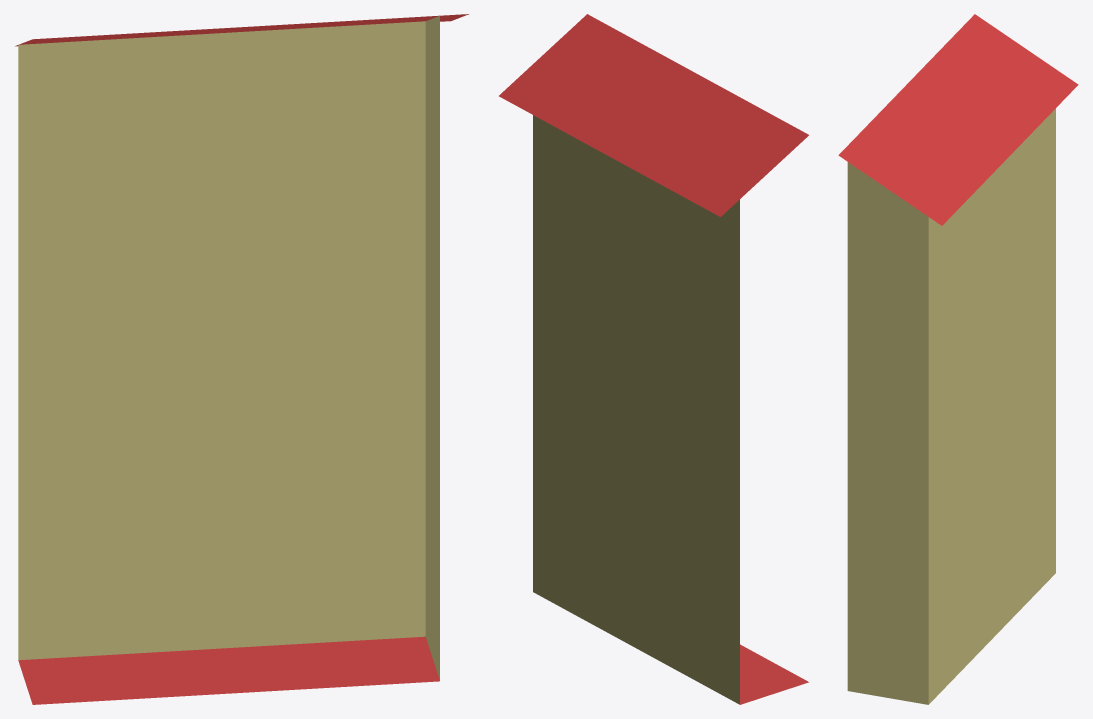
3 views of the same model, side by side, from view 1: azimuth 30°, elevation 25°; view 2: azimuth 150°, elevation 25°; view 3: azimuth 270°, elevation 25° (orthographic). The views are drawn at different scales.
Bounding box in the file's own units: 7.67 × 4.89 × 12.24.
